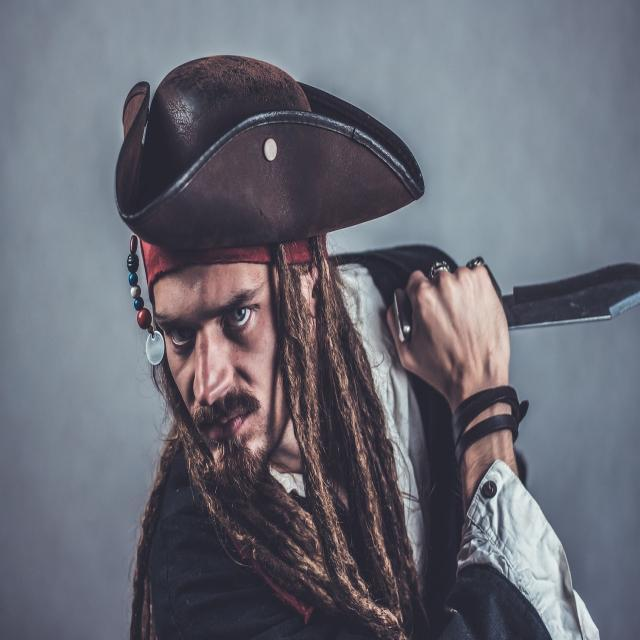Axe: (502, 264, 640, 328)
